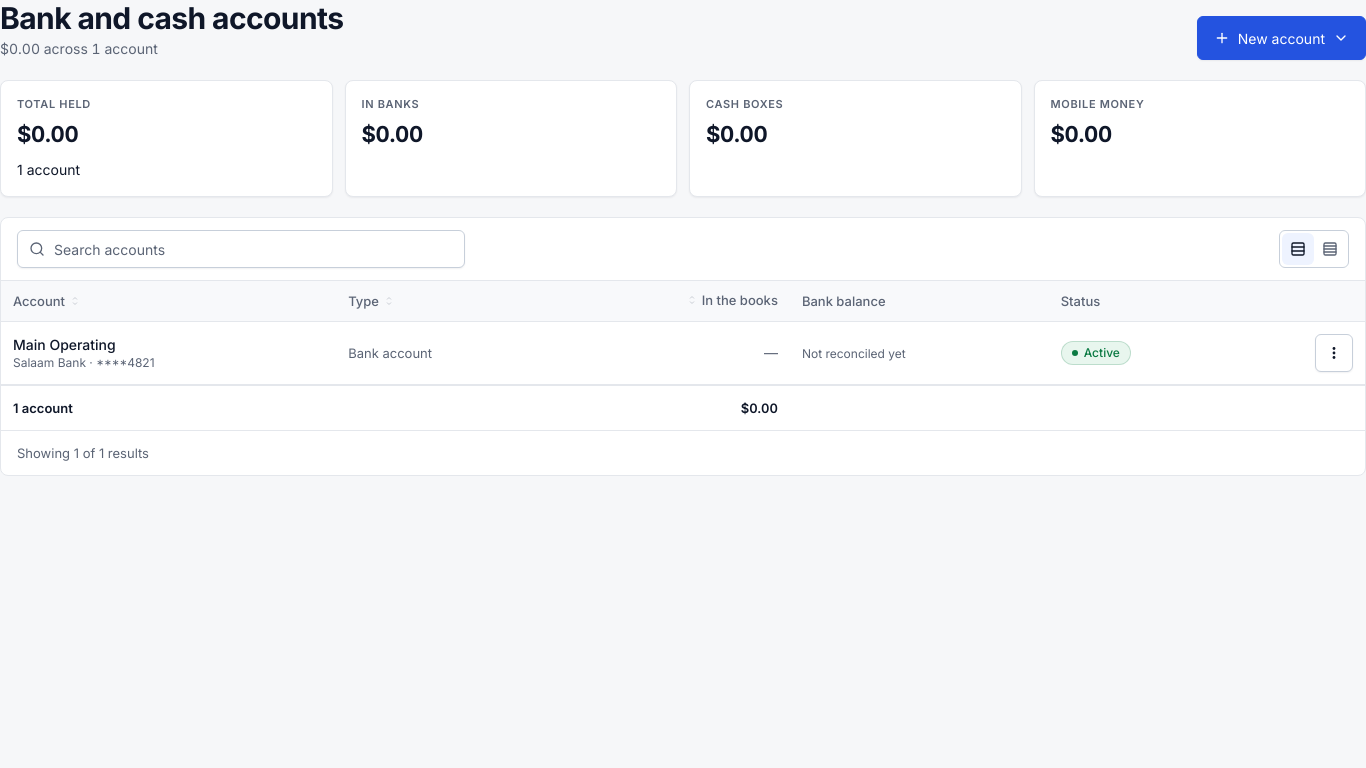
configure form › distinguishes every cash account already being mapped
What coordinates should you click on to do the following:
click the button "New account"
I would click on:
 (1281, 38)
Its box is [1197, 16, 1365, 60].
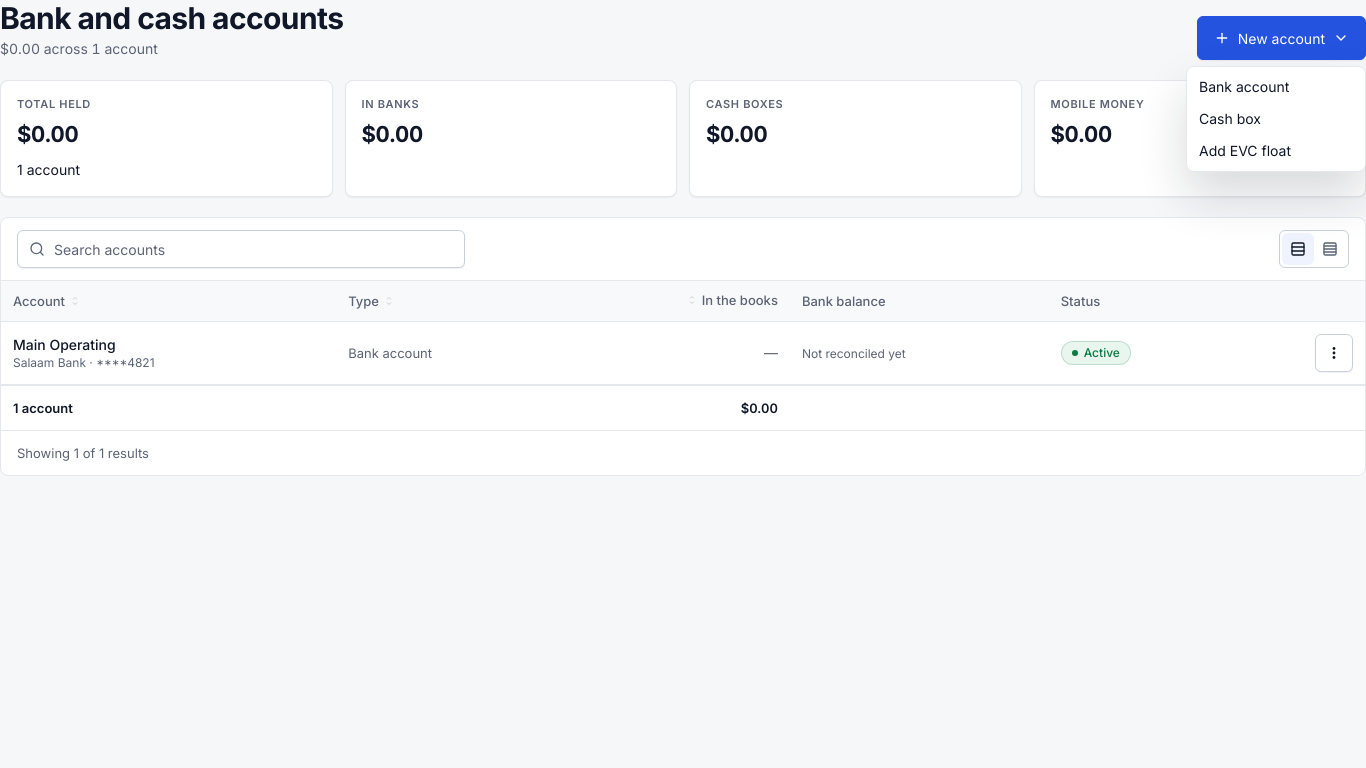
What coordinates should you click on to do the following:
click the menu item "Bank account"
I would click on:
 (1244, 86)
Its box is [1199, 78, 1289, 95].
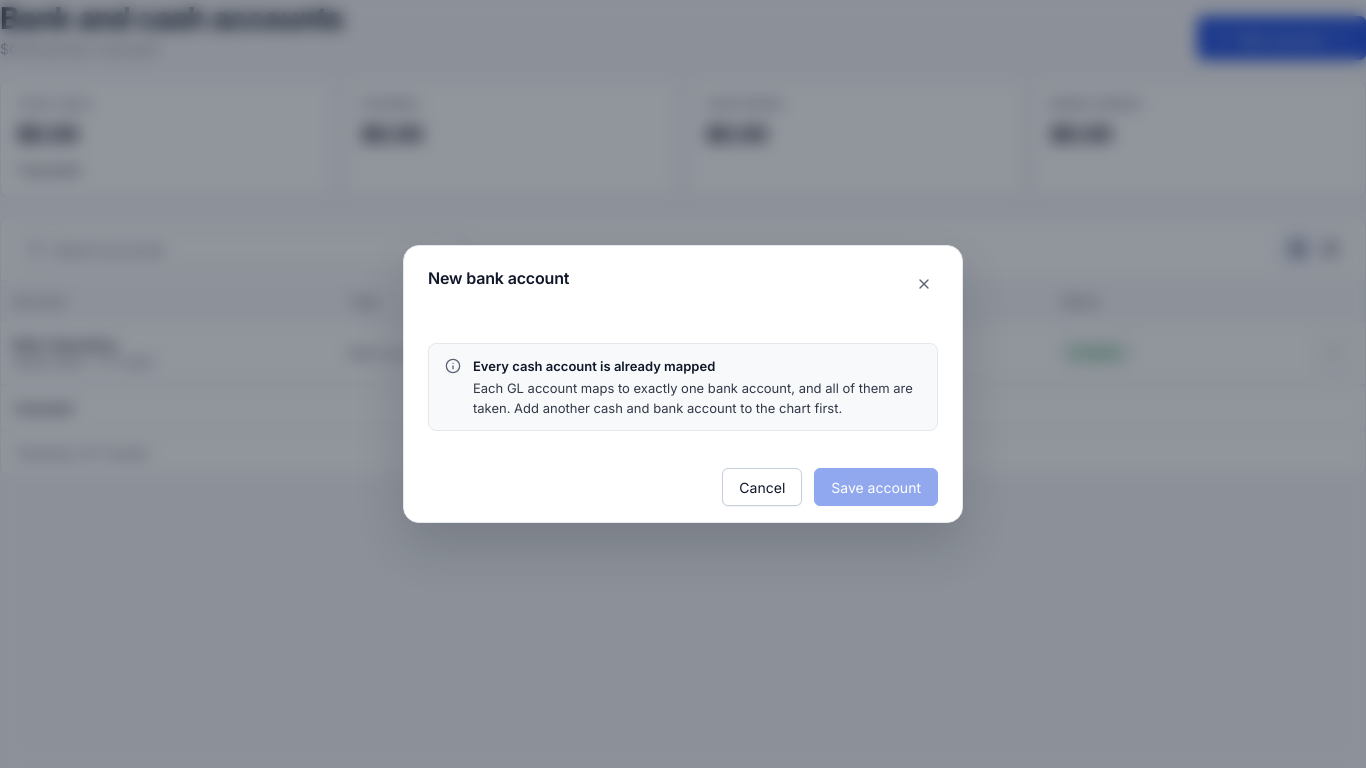
Result: the text "Every cash account is already mapped" is shown at [473, 358, 715, 374]
